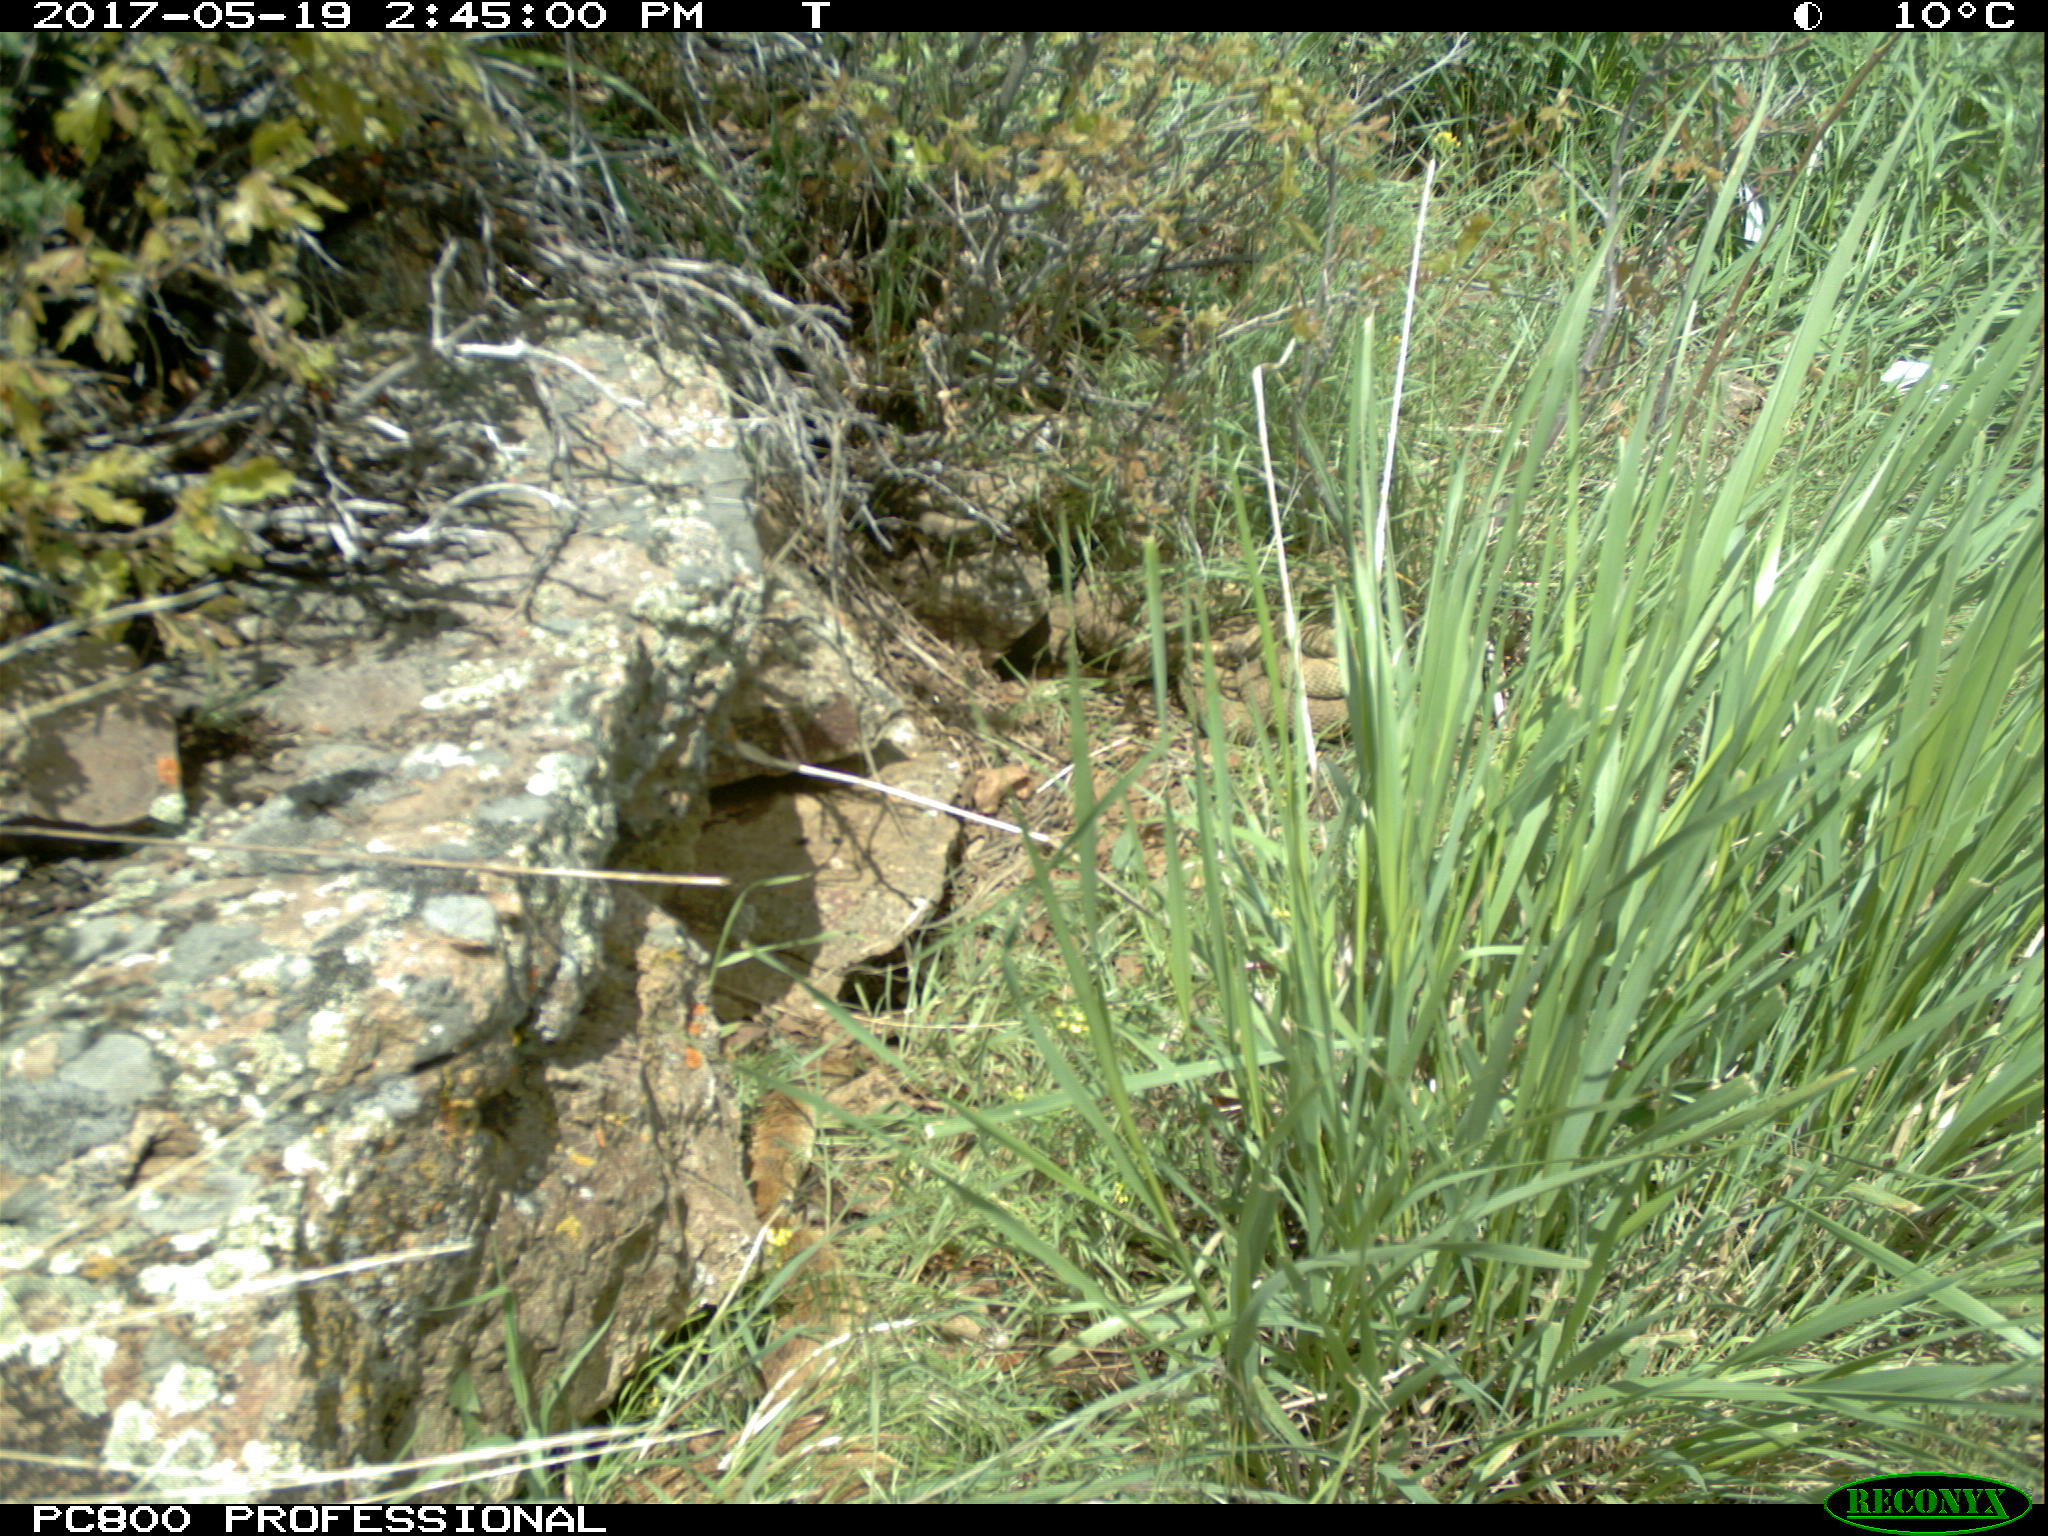snake: (747, 1083, 860, 1462), (1176, 608, 1356, 745), (1072, 582, 1168, 697)
